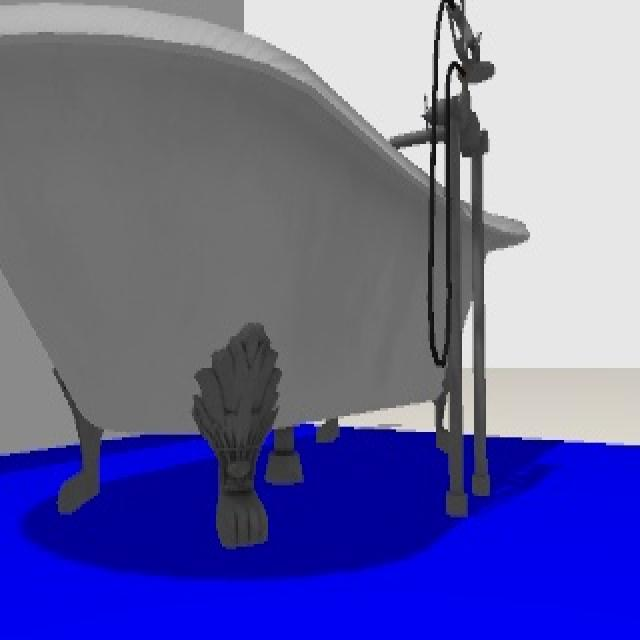bathtub: (2, 2, 528, 548)
